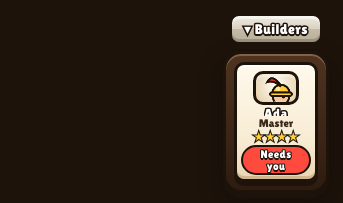
Scenario: badge follows live session state; click on a busy builder opens its session
Click the button with test id "builder-card-b1": [276, 122] box top-left (234, 62), bottom-right (318, 182)
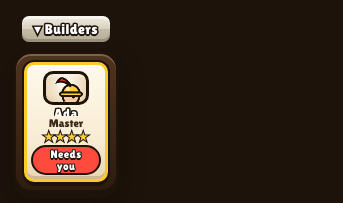
Check: the button with test id "builder-card-b1" has class "selected", box top-left (24, 62), bottom-right (108, 182)
